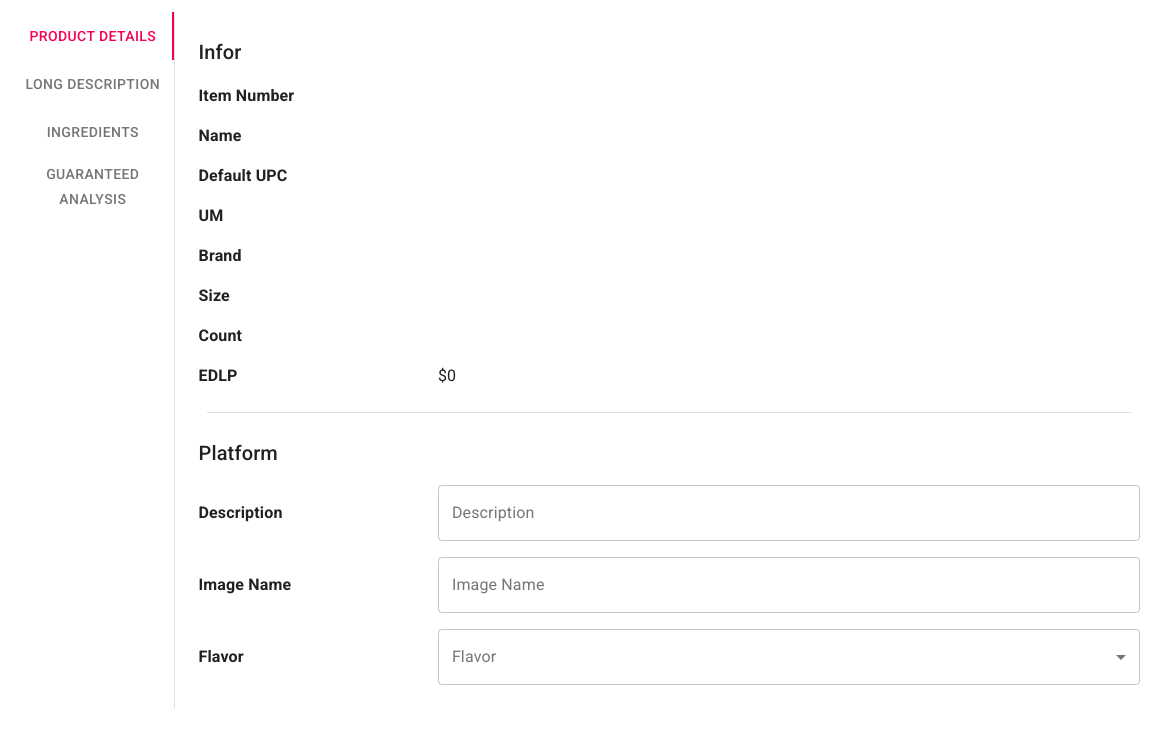
it: ProductDetailsForm Tests › ProductDetailsForm - Selecting Long Description tab renders components
Click the tab with test id "product-form-long-description-tab" at (93, 84), box [12,60,174,108]
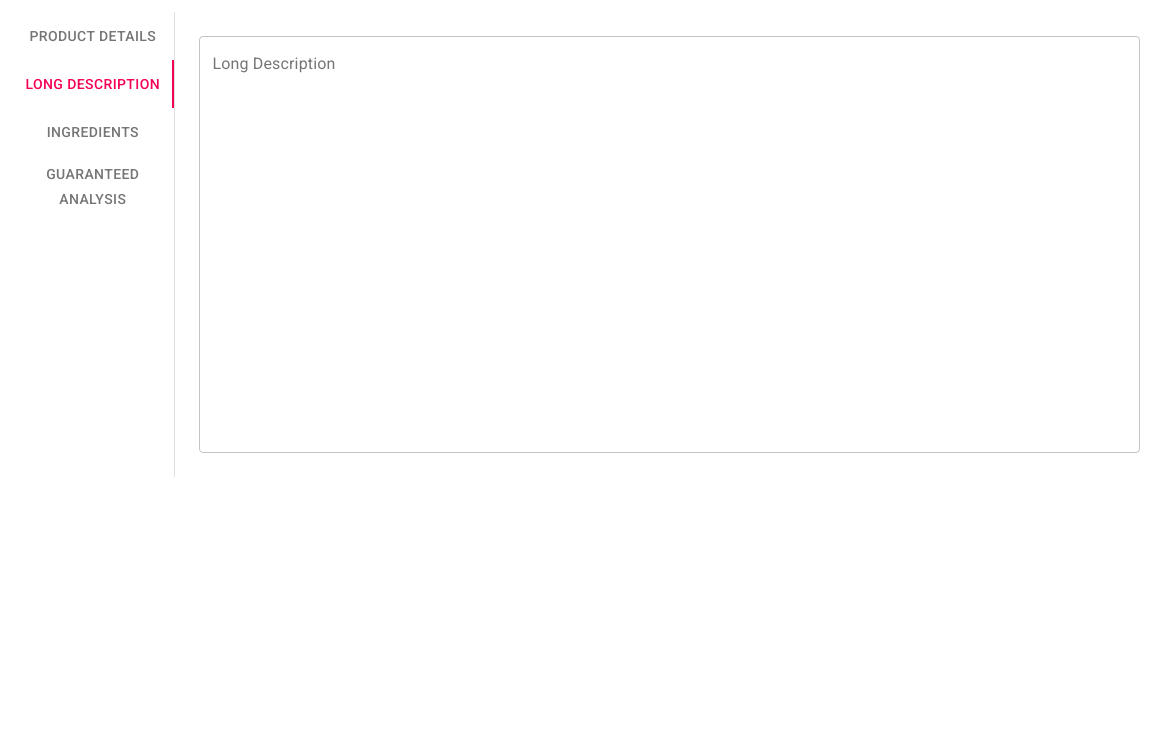
Expected: the text box with test id "product-form-long-description" is shown, [212,54,1126,434]
